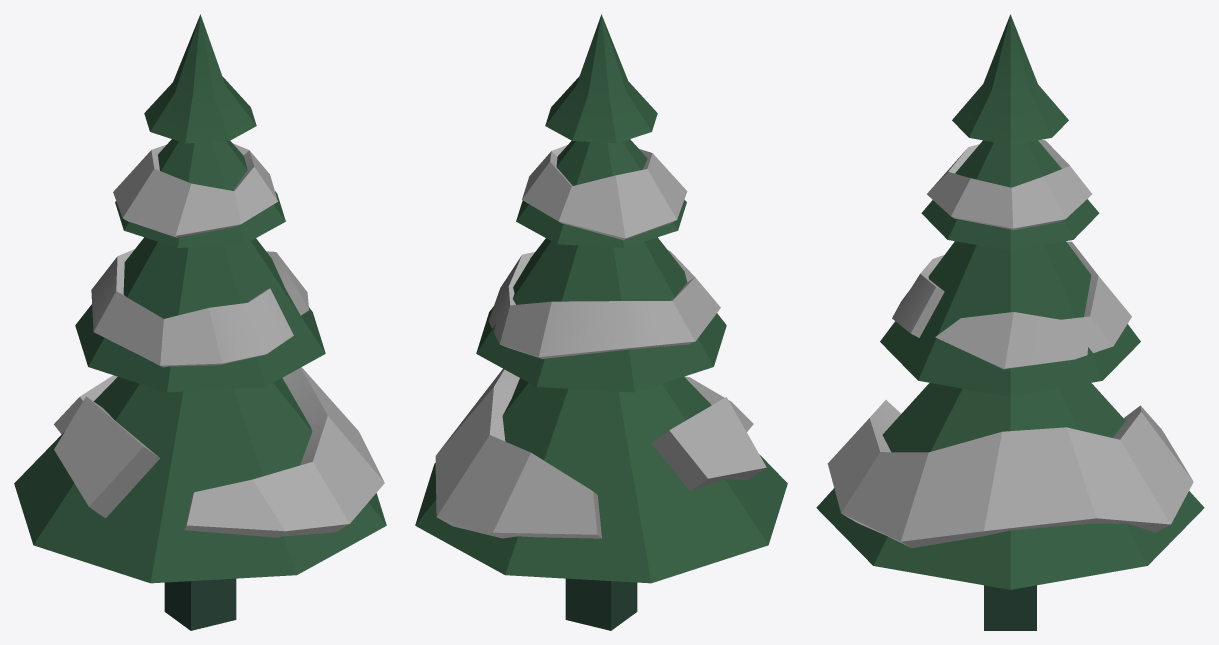
Rendered from Fur_tree.fbx.
3 views of the same model, side by side, from view 1: azimuth 30°, elevation 25°; view 2: azimuth 150°, elevation 25°; view 3: azimuth 270°, elevation 25° (orthographic).
Parts seen in each view (by area): view 1: fur_tree; view 2: fur_tree; view 3: fur_tree.
Boxes of the visible parts, x1,y1,x2,y2 form: fur_tree: [14, 14, 386, 630]; fur_tree: [415, 14, 787, 630]; fur_tree: [816, 14, 1204, 630].
Bounding box in the file's own units: 2.66 × 4.58 × 2.66.
